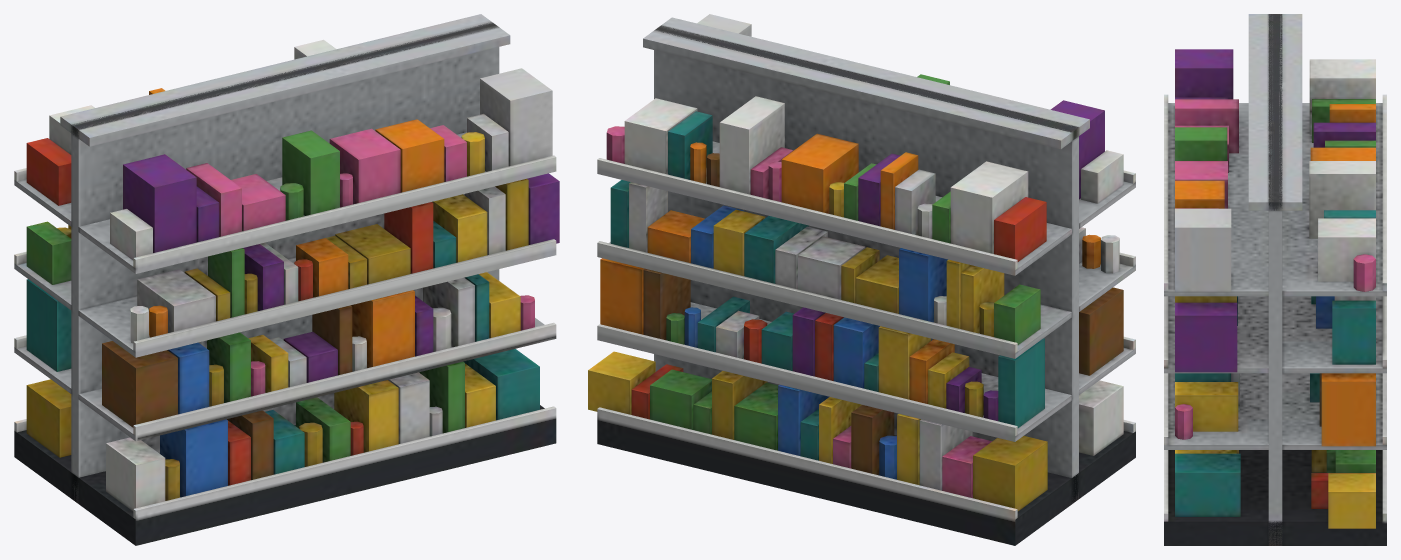
File: gondola.glb
The picture shows the model from 3 angles, left to right: view 1: azimuth 30°, elevation 25°; view 2: azimuth 150°, elevation 25°; view 3: azimuth 270°, elevation 25°; orthographic projection. The views are drawn at different scales.
Parts seen in each view (by area): view 1: gondola; view 2: gondola; view 3: gondola.
Part boxes in pixels (<box>): gondola: <box>14,14,559,545</box>; gondola: <box>588,14,1135,545</box>; gondola: <box>1164,14,1386,545</box>.
Bounding box in the file's own units: 2.07 × 1.7 × 1.
Materials: 1 (1 with a texture image).
